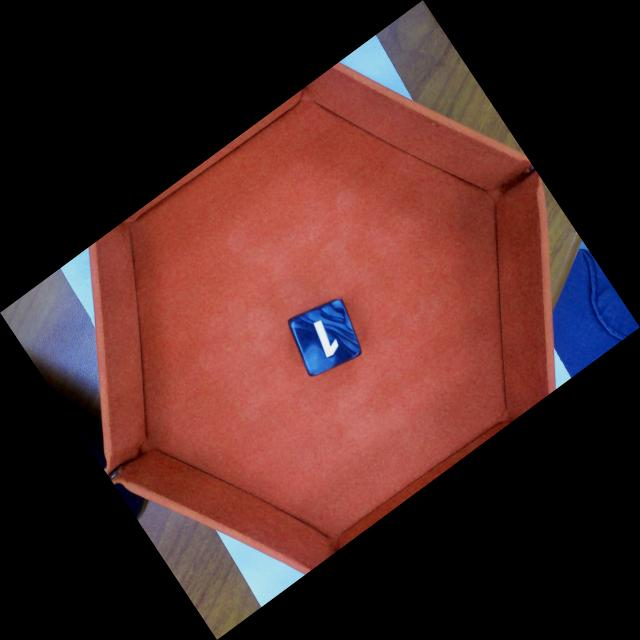dice: (286, 296, 364, 379)
